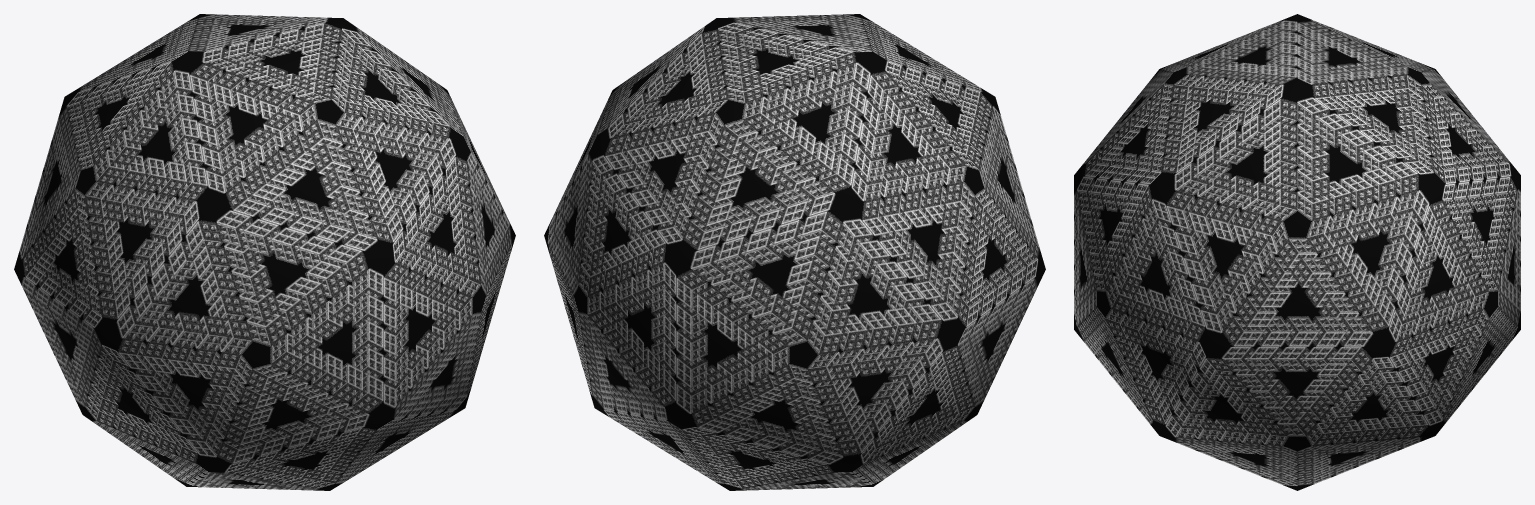
Rendered from 16PentakisDodecahedron.gltf.
3 views of the same model, side by side, from view 1: azimuth 30°, elevation 25°; view 2: azimuth 150°, elevation 25°; view 3: azimuth 270°, elevation 25° (orthographic). The views are drawn at different scales.
Parts seen in each view (by area): view 1: 20PentakisDodecahedron; view 2: 20PentakisDodecahedron; view 3: 20PentakisDodecahedron.
Part boxes in pixels (bbox=[...]): 20PentakisDodecahedron: bbox=[14, 14, 515, 490]; 20PentakisDodecahedron: bbox=[544, 14, 1045, 490]; 20PentakisDodecahedron: bbox=[1074, 14, 1520, 490].
Bounding box in the file's own units: 4.85 × 4.85 × 4.85.
Materials: 1 (1 with a texture image).
